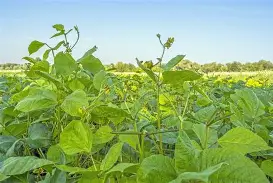crops: (0, 25, 268, 183), (110, 66, 270, 93), (208, 84, 271, 147), (0, 80, 39, 137), (26, 23, 79, 61), (193, 58, 273, 71), (0, 59, 33, 70)
